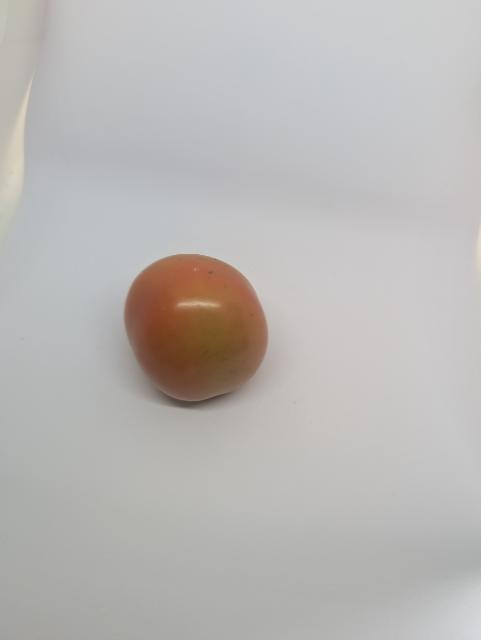turning: (118, 245, 275, 408)
